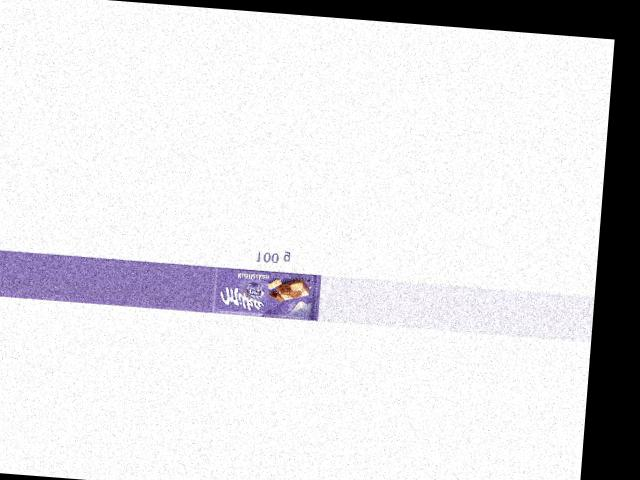chocolate: (208, 259, 323, 322)
